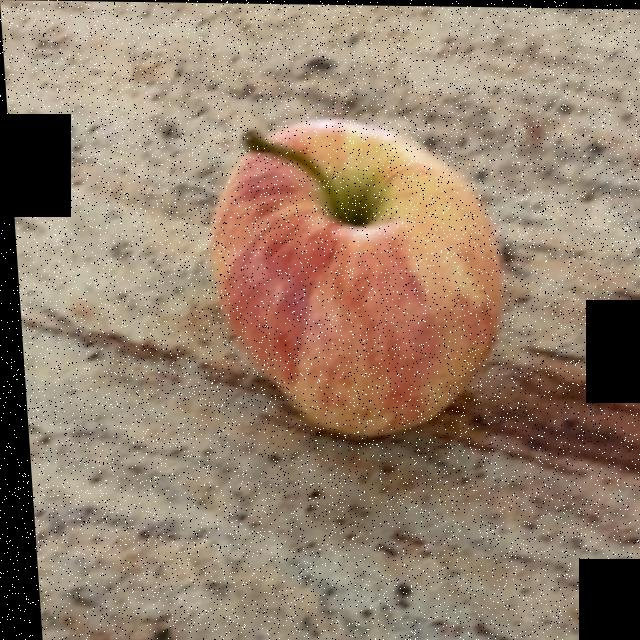apple: (208, 125, 505, 430)
